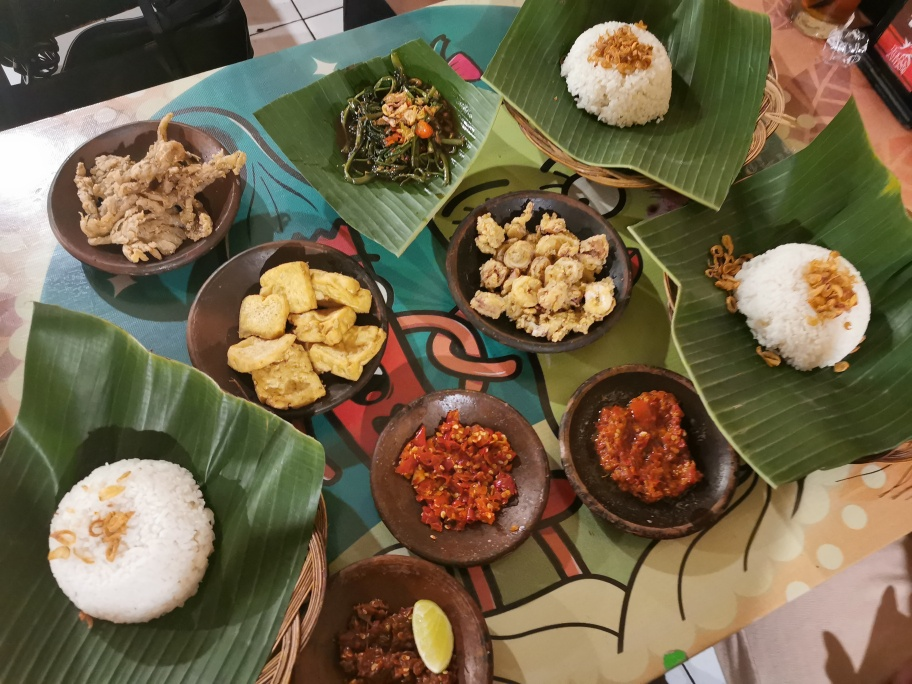nasi putih: (44, 454, 215, 627), (734, 244, 876, 377), (561, 19, 673, 126)
